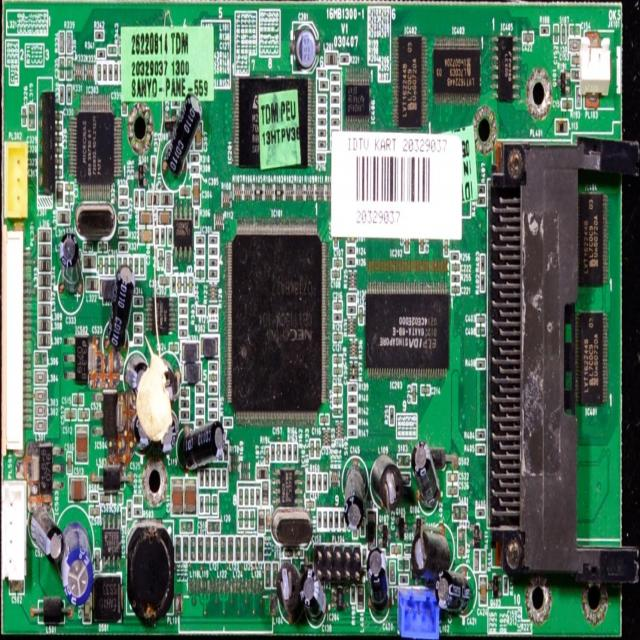Capacitor Jumper: (184, 479, 194, 513), (173, 479, 182, 514), (77, 430, 87, 460), (72, 479, 85, 500), (479, 576, 487, 608), (192, 178, 198, 205), (390, 543, 402, 555), (138, 232, 152, 242), (412, 384, 418, 406), (72, 393, 83, 405), (64, 409, 76, 420), (447, 487, 459, 498), (141, 213, 152, 224), (451, 263, 462, 273), (522, 33, 532, 44), (78, 409, 89, 419), (196, 129, 201, 149), (158, 215, 168, 225), (159, 278, 169, 288), (334, 257, 343, 268), (89, 510, 100, 519), (452, 284, 460, 296), (562, 102, 571, 112), (570, 26, 580, 35), (390, 562, 395, 580), (188, 274, 192, 296), (68, 452, 72, 474), (358, 307, 363, 324), (423, 384, 430, 396), (476, 326, 484, 336), (554, 26, 558, 46), (320, 417, 330, 425), (448, 473, 458, 481), (100, 495, 110, 503), (294, 549, 304, 557), (317, 439, 321, 458), (183, 276, 187, 294), (476, 314, 485, 322), (310, 440, 314, 458), (264, 446, 268, 464), (113, 494, 122, 502), (12, 582, 18, 594), (84, 606, 89, 620), (178, 277, 182, 294), (182, 186, 188, 197), (334, 356, 342, 364), (334, 368, 342, 376), (334, 409, 342, 417), (276, 444, 280, 460), (285, 548, 291, 558), (59, 60, 62, 80), (65, 182, 72, 190), (331, 270, 338, 278), (332, 333, 340, 340), (170, 343, 178, 350), (570, 43, 578, 50), (266, 512, 270, 526), (56, 166, 62, 175), (99, 258, 102, 276), (333, 304, 342, 310), (334, 388, 343, 394), (56, 123, 63, 130), (56, 132, 62, 140), (56, 145, 62, 153), (335, 238, 339, 250), (334, 400, 342, 406), (307, 501, 315, 507), (572, 60, 580, 66), (56, 112, 62, 119), (56, 156, 62, 161), (24, 110, 26, 123)
Connector: (0, 226, 30, 463), (0, 468, 36, 614), (4, 128, 32, 222)
IC: (239, 237, 318, 410), (236, 78, 306, 166), (367, 292, 438, 366), (432, 38, 475, 99), (578, 314, 604, 402), (80, 115, 112, 184), (580, 198, 604, 278), (402, 40, 422, 120), (347, 76, 373, 120), (32, 445, 52, 500), (497, 35, 513, 96), (278, 471, 295, 506), (152, 298, 169, 332), (176, 222, 193, 254), (104, 527, 119, 557), (77, 335, 85, 378), (338, 588, 342, 610)
Resistor Jumper: (59, 31, 65, 50), (66, 85, 72, 103), (339, 54, 348, 65), (503, 573, 508, 592), (318, 94, 327, 104), (89, 491, 98, 501), (150, 157, 155, 174), (166, 230, 171, 247), (199, 496, 204, 513), (66, 32, 70, 53), (481, 551, 485, 572), (209, 401, 217, 411), (110, 47, 118, 57), (341, 510, 345, 530), (350, 586, 354, 606), (195, 208, 199, 227), (211, 468, 215, 487), (113, 65, 118, 80), (191, 153, 199, 162), (160, 229, 164, 247), (476, 429, 484, 438), (134, 496, 142, 505), (318, 510, 322, 528), (572, 68, 580, 77), (96, 32, 103, 42), (350, 404, 357, 414), (154, 228, 158, 245), (480, 276, 484, 293), (108, 65, 112, 82), (391, 405, 394, 427), (450, 252, 458, 260), (197, 256, 205, 264), (196, 270, 204, 278), (209, 306, 217, 314), (180, 317, 188, 325), (349, 396, 357, 404), (182, 398, 190, 406), (322, 475, 326, 491), (320, 81, 328, 89), (476, 510, 485, 517), (576, 90, 579, 110), (198, 416, 204, 426), (349, 429, 359, 435), (270, 444, 274, 459), (294, 444, 297, 464), (136, 506, 142, 516), (103, 63, 106, 83), (59, 85, 62, 104), (98, 61, 101, 80), (318, 105, 326, 112), (119, 187, 126, 195), (208, 236, 215, 244), (134, 325, 141, 333), (181, 388, 188, 396), (209, 411, 217, 418), (182, 414, 190, 421), (98, 47, 105, 55), (122, 508, 126, 522), (335, 512, 339, 526), (400, 573, 407, 581), (348, 258, 354, 267), (542, 26, 548, 35), (135, 334, 141, 343), (218, 470, 221, 488), (330, 510, 333, 528), (476, 551, 479, 569), (282, 444, 285, 461), (319, 71, 326, 78), (320, 127, 326, 135), (320, 140, 326, 148), (121, 240, 127, 248), (212, 268, 218, 276), (134, 299, 142, 305), (334, 314, 340, 322), (210, 362, 216, 370), (128, 500, 131, 516), (200, 471, 203, 486), (134, 194, 137, 208), (120, 213, 126, 220), (211, 259, 218, 265), (481, 256, 484, 270), (173, 277, 176, 291), (210, 375, 217, 381), (210, 389, 217, 395), (349, 418, 356, 424), (190, 166, 198, 171), (120, 228, 128, 233), (180, 329, 188, 334), (476, 361, 484, 366), (206, 468, 208, 488), (288, 446, 291, 459), (332, 106, 338, 112), (198, 237, 204, 243), (348, 293, 354, 299), (197, 306, 203, 312), (208, 323, 214, 329), (225, 419, 231, 425), (331, 87, 338, 92), (120, 201, 127, 206), (348, 247, 353, 254), (134, 314, 141, 319), (477, 447, 484, 452), (224, 472, 226, 488), (318, 475, 320, 491), (324, 510, 326, 526), (334, 73, 338, 81), (212, 248, 217, 254), (180, 302, 186, 307), (350, 384, 356, 389), (198, 388, 203, 394), (198, 399, 203, 405), (197, 406, 202, 412), (306, 474, 308, 489), (318, 157, 325, 161), (141, 193, 143, 206), (362, 520, 364, 533), (333, 97, 338, 102), (332, 118, 337, 123), (320, 118, 326, 122), (197, 250, 203, 254), (349, 307, 355, 311), (182, 311, 186, 316), (313, 475, 314, 489)
